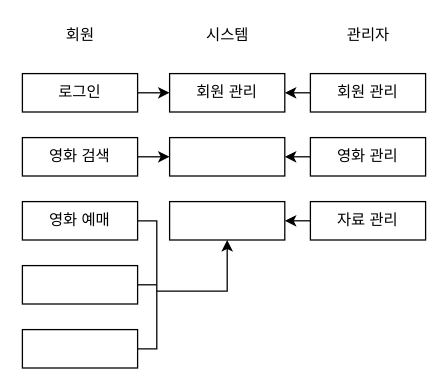
Image size: 448x390. Some labels were removed from this diagram. The centre of each missing label's shape, as x and y in pixels:
내역 자료: (226,220)
내역 조회: (79,348)
영화 자료: (226,156)
영화 취소: (79,284)
